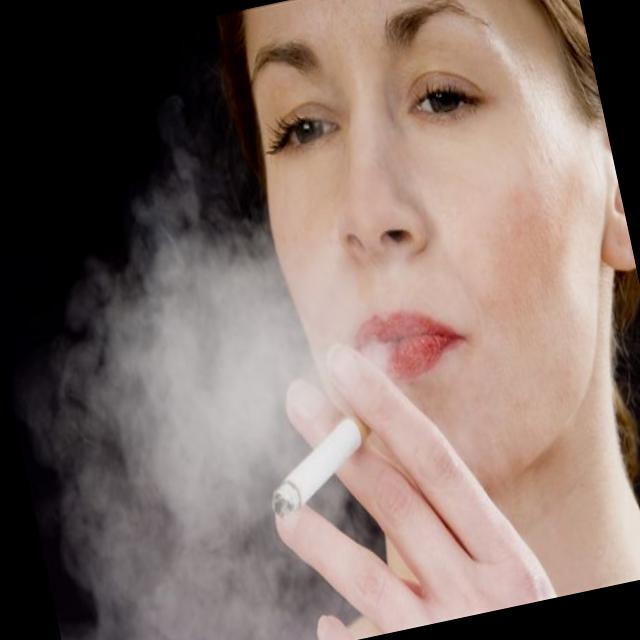cigarette: (247, 404, 386, 528)
